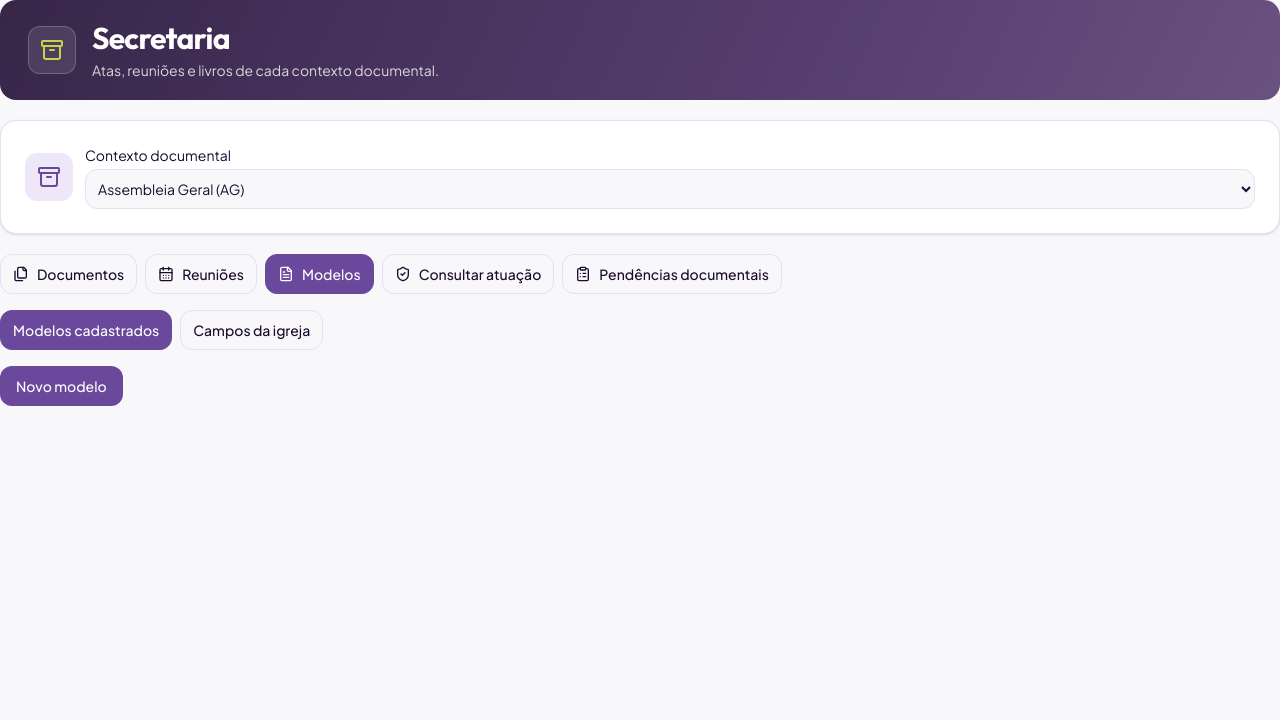
it: E04: interface da secretaria › salva e sai somente após a confirmação do servidor, inclusive depois de uma falha
Click the button "Novo modelo" at (61, 386), box x1=0 y1=366 x2=123 y2=406
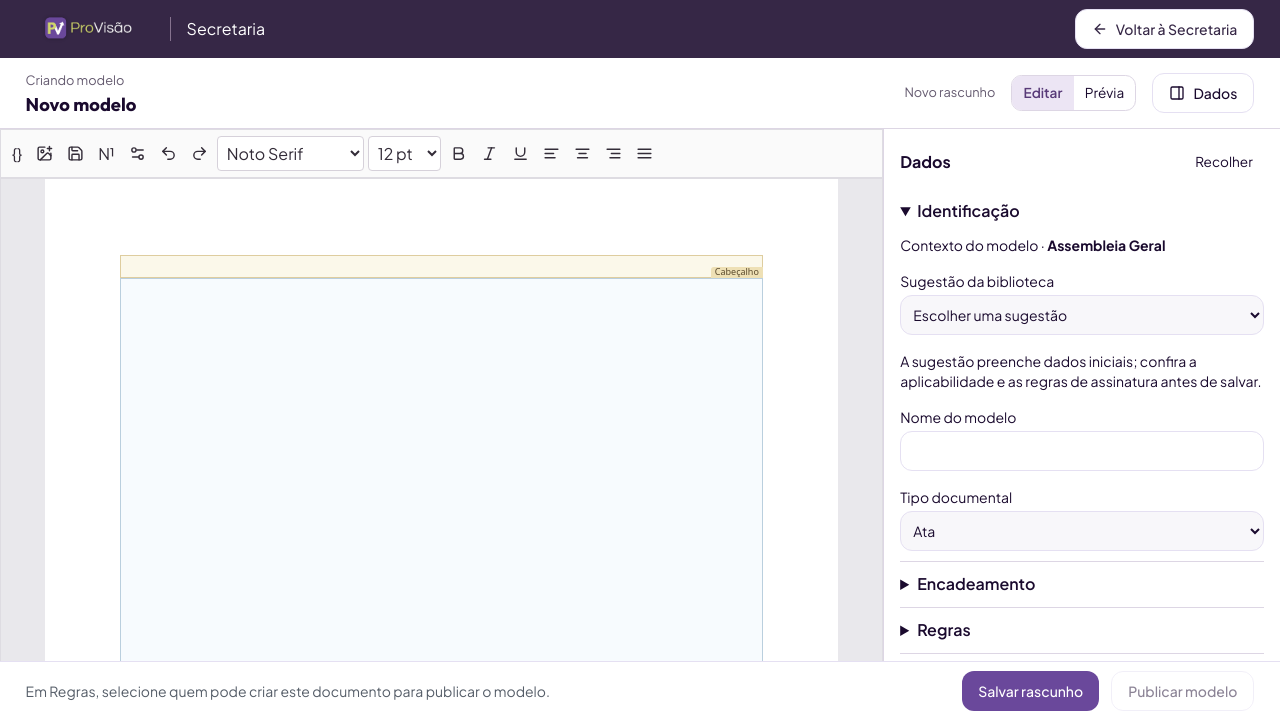
Type "Minuta" into the field labelled "Nome do modelo" at (1082, 450), box x1=900 y1=430 x2=1264 y2=470
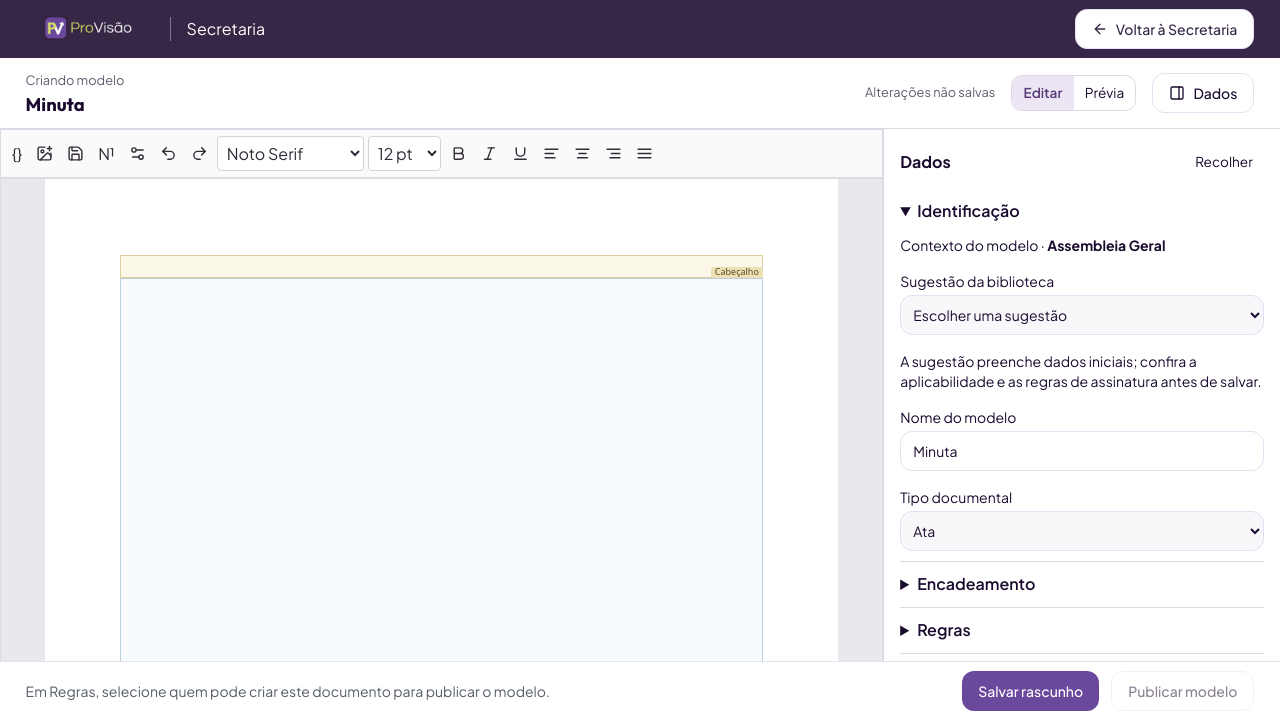
Click the button "Voltar à Secretaria" at (1165, 29), box x1=1075 y1=9 x2=1254 y2=49
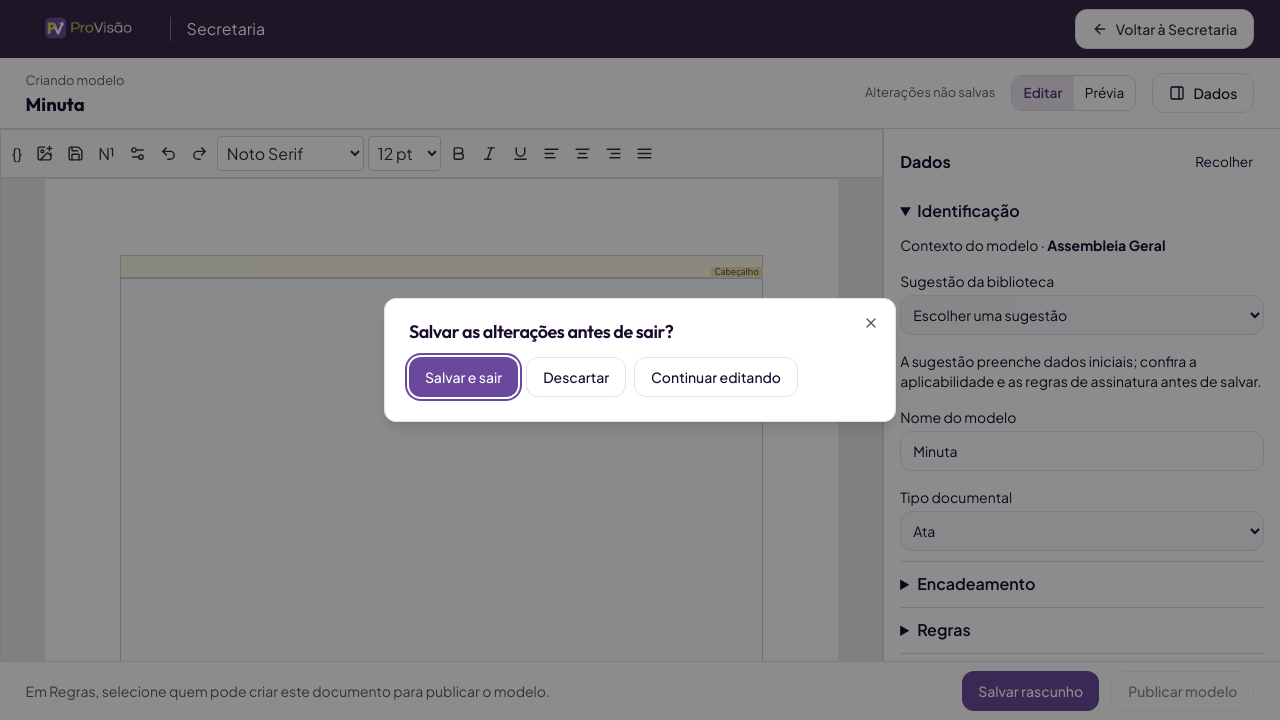
Click the button "Salvar e sair" at (464, 377), box x1=409 y1=357 x2=518 y2=397
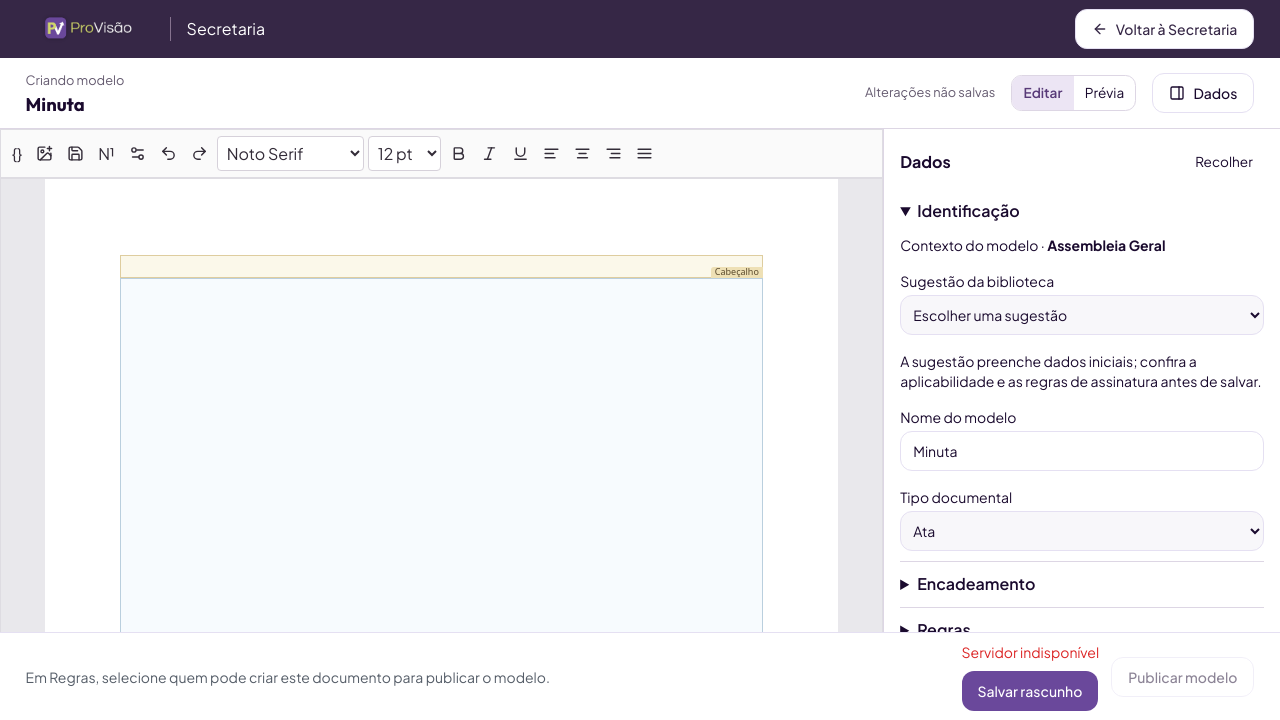
Check: the text "Servidor indisponível" is shown, box x1=962 y1=642 x2=1099 y2=663
Click the button "Voltar à Secretaria" at (1165, 29), box x1=1075 y1=9 x2=1254 y2=49
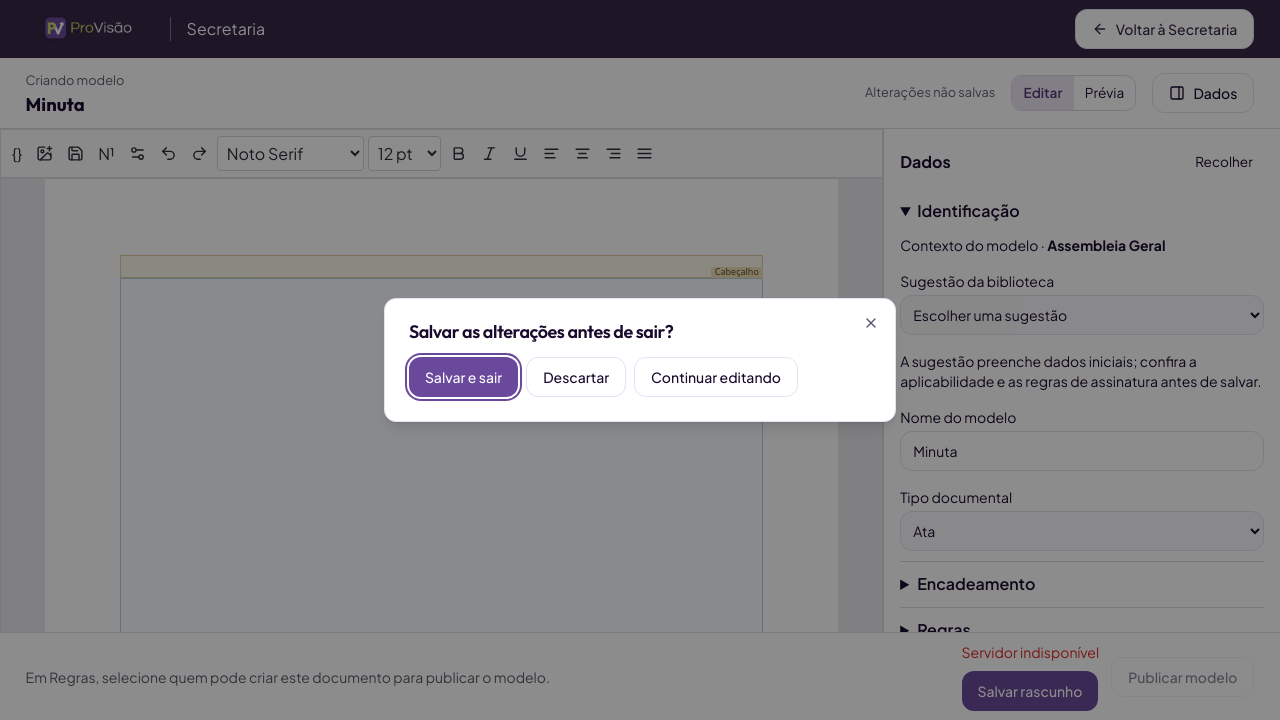
Click the button "Salvar e sair" at (464, 377), box x1=409 y1=357 x2=518 y2=397
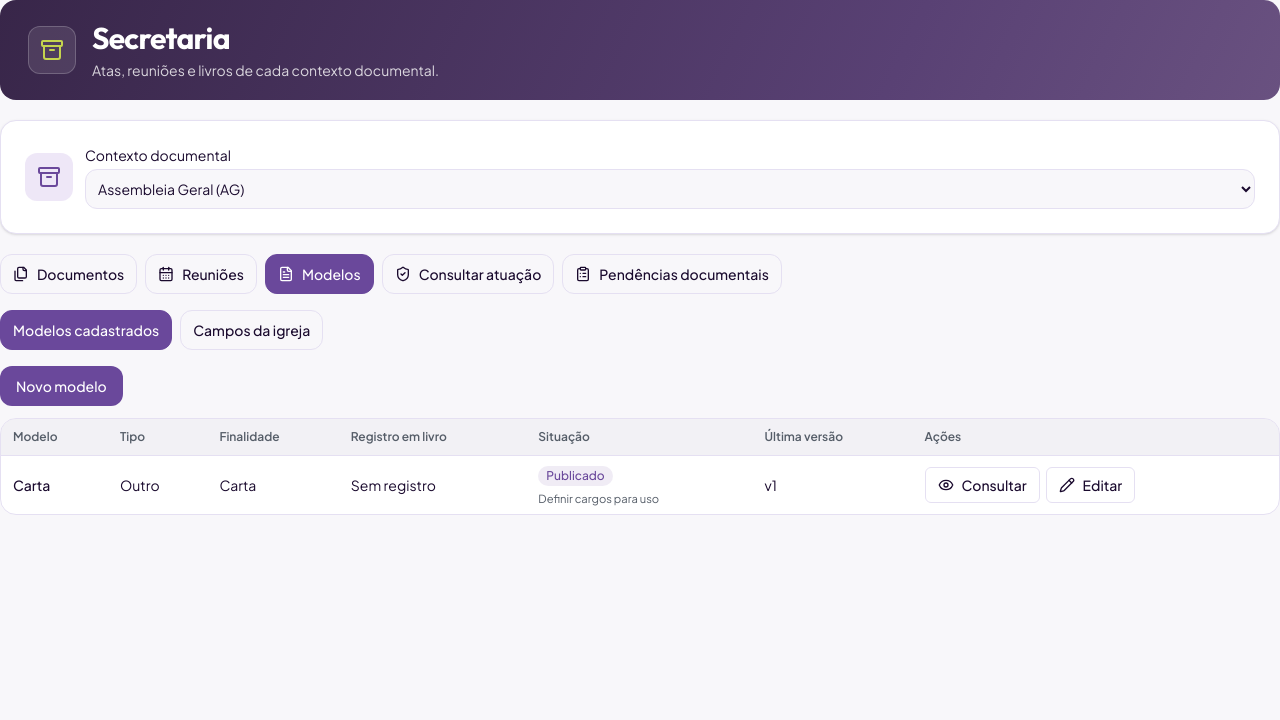
Check: the table named "Modelos cadastrados" is shown, box x1=1 y1=419 x2=1279 y2=514
